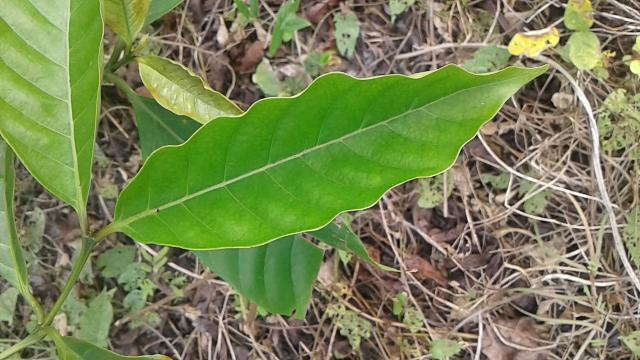healthy: (113, 64, 546, 250)
